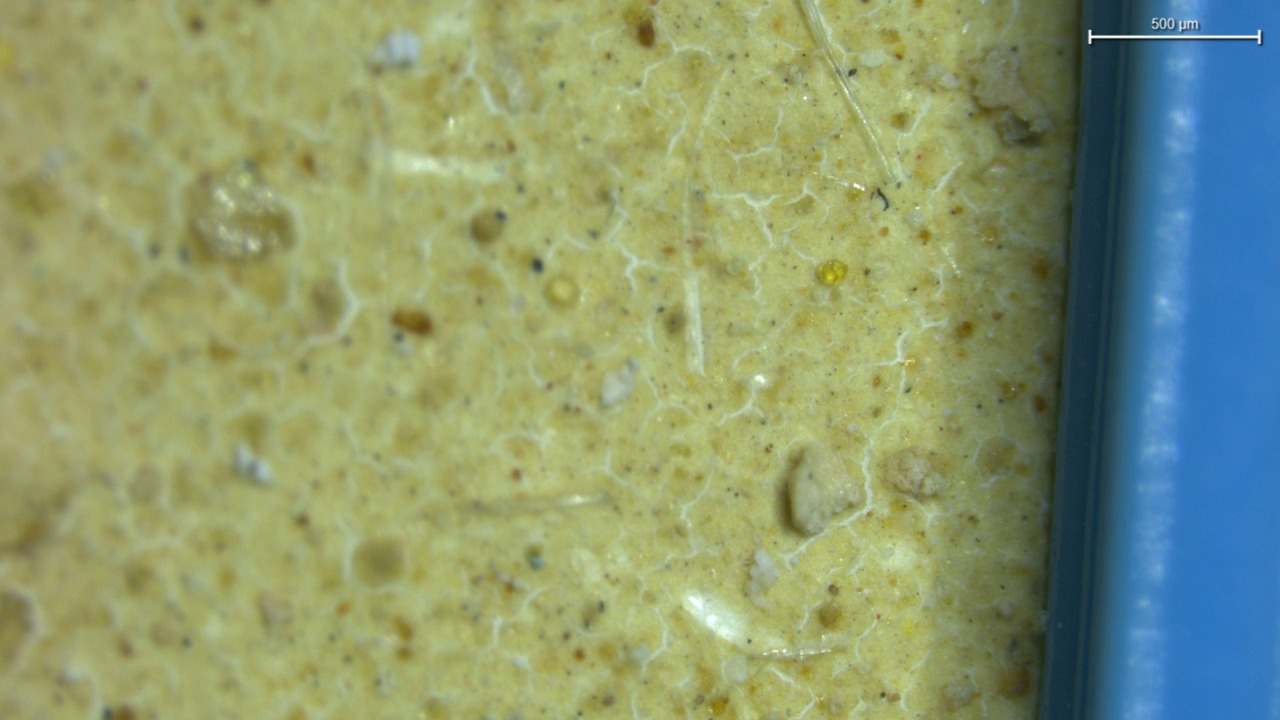microplastic_fragment: (784, 443, 862, 535), (370, 29, 421, 69)
